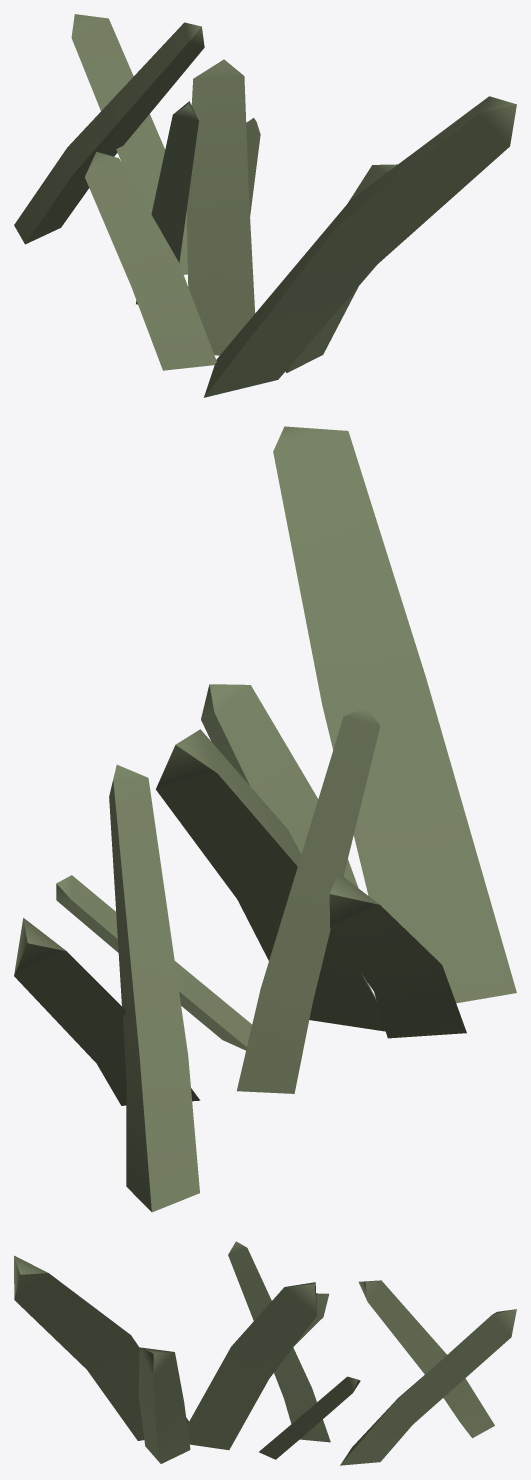
File: P_grass_04.fbx
3 renders of one model, top to bottom at view 1: azimuth 30°, elevation 25°; view 2: azimuth 150°, elevation 25°; view 3: azimuth 270°, elevation 25°, orthographic. The views are drawn at different scales.
Visible parts, largest first — view 1: lod1; view 2: lod1; view 3: lod1.
Boxes of the visible parts, left/top/right/bottom form: lod1: left=14, top=14, right=516, bottom=397; lod1: left=14, top=426, right=516, bottom=1212; lod1: left=14, top=1241, right=516, bottom=1465.
Size of the model in its own units: 0.2928 by 0.3285 by 0.6412.
Materials: 1 (1 with a texture image).
